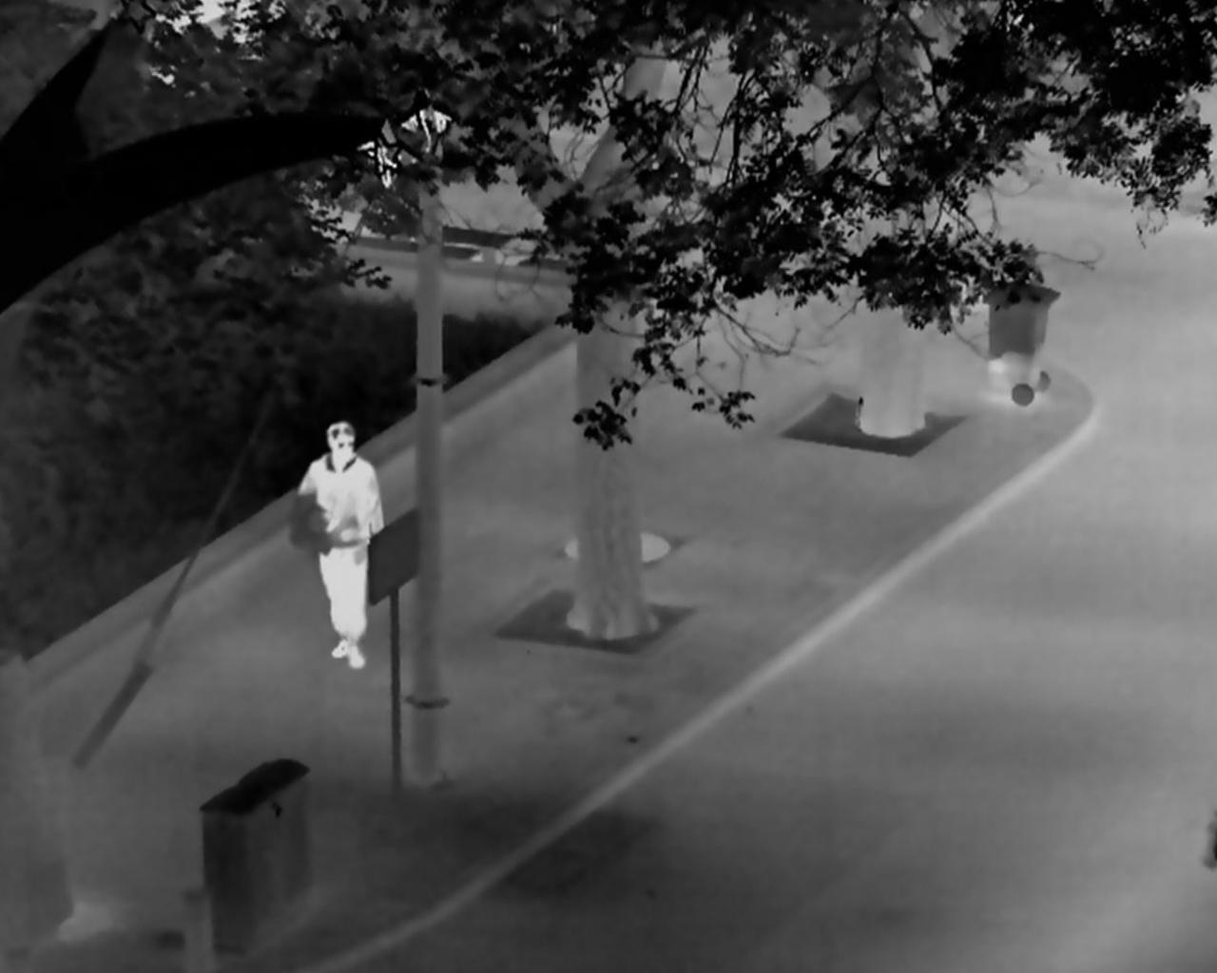person: (289, 420, 387, 669)
